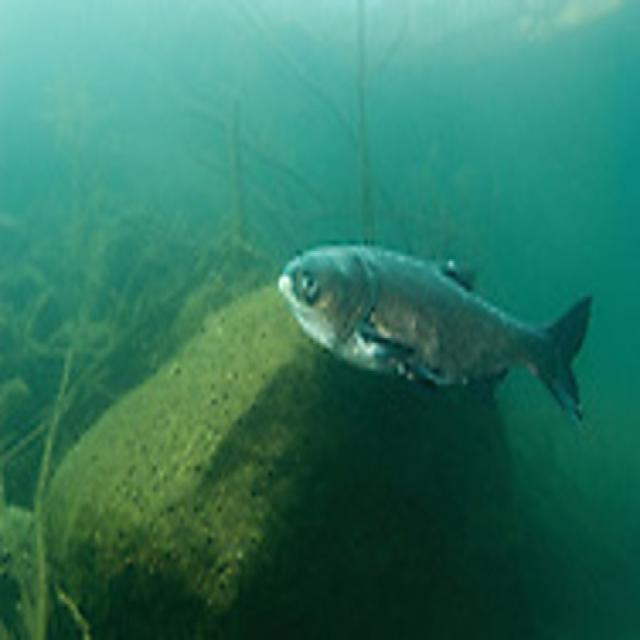Big-Head-Carp: (252, 211, 600, 480)
